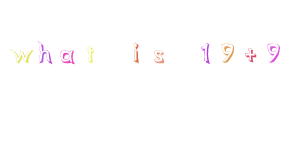+: (243, 47, 258, 63)
1: (200, 41, 214, 64)
9: (265, 41, 281, 65), (219, 41, 235, 64)
a: (59, 47, 75, 65)
h: (37, 40, 53, 64)
i: (131, 42, 142, 63)
s: (152, 47, 166, 64)
t: (85, 44, 96, 64)
w: (8, 44, 33, 64)
